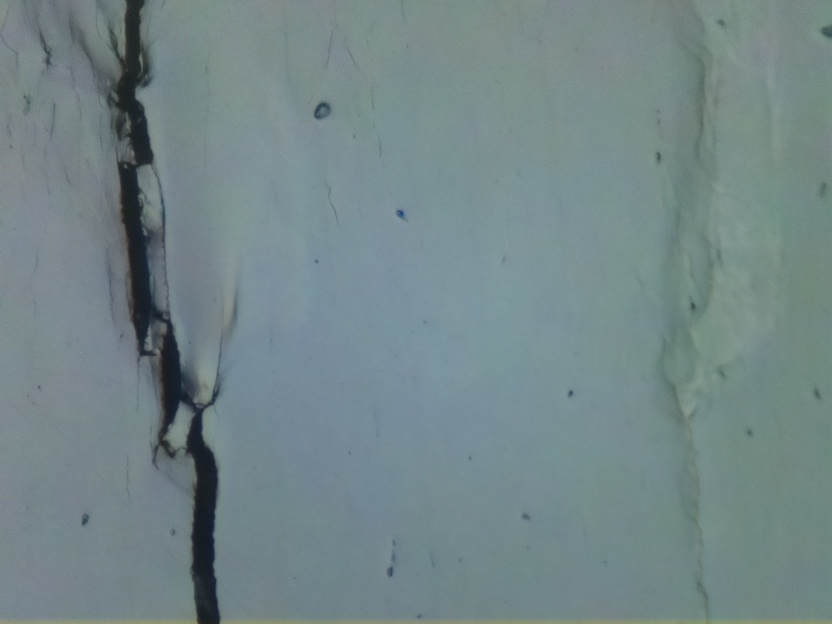crack: (118, 0, 224, 624)
